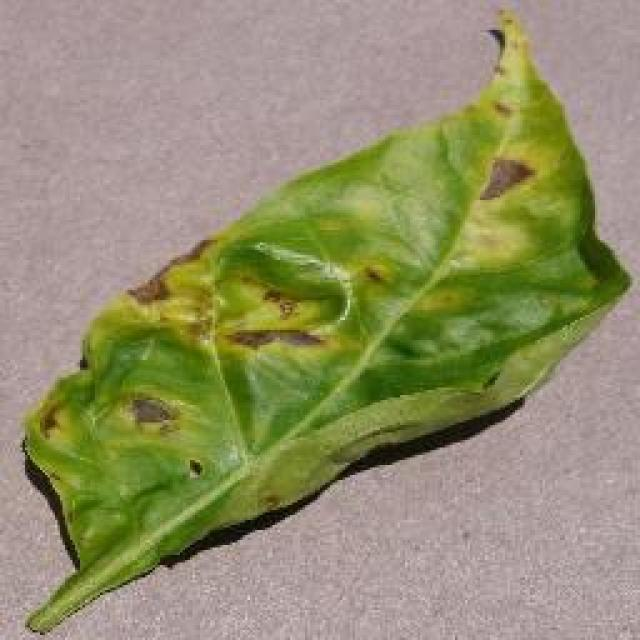Chilli_Bacterial_Spot: (15, 5, 633, 635), (207, 240, 355, 365), (222, 322, 328, 358), (475, 153, 537, 205), (122, 392, 178, 432), (258, 282, 302, 322), (122, 272, 170, 308), (32, 398, 68, 442), (355, 260, 393, 290), (180, 452, 208, 482)
